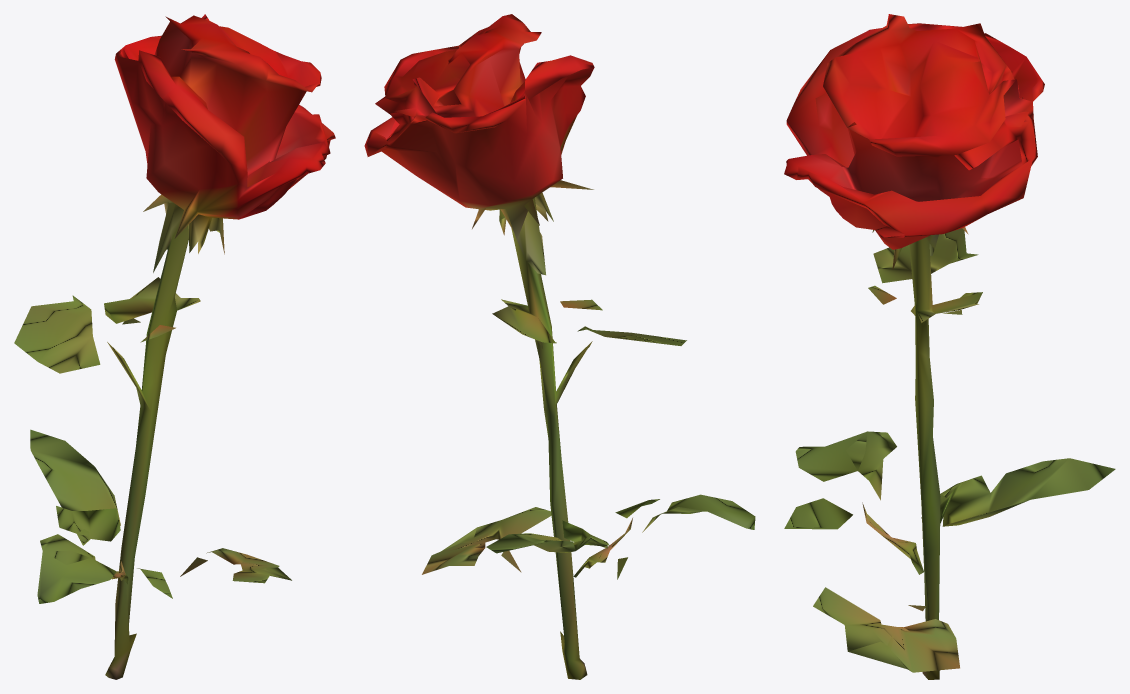
File: field_flower_5.glb
3 renders of one model, left to right at view 1: azimuth 30°, elevation 25°; view 2: azimuth 150°, elevation 25°; view 3: azimuth 270°, elevation 25°, orthographic. The views are drawn at different scales.
Bounding box in the file's own units: 1.09 × 1.97 × 0.8542.
